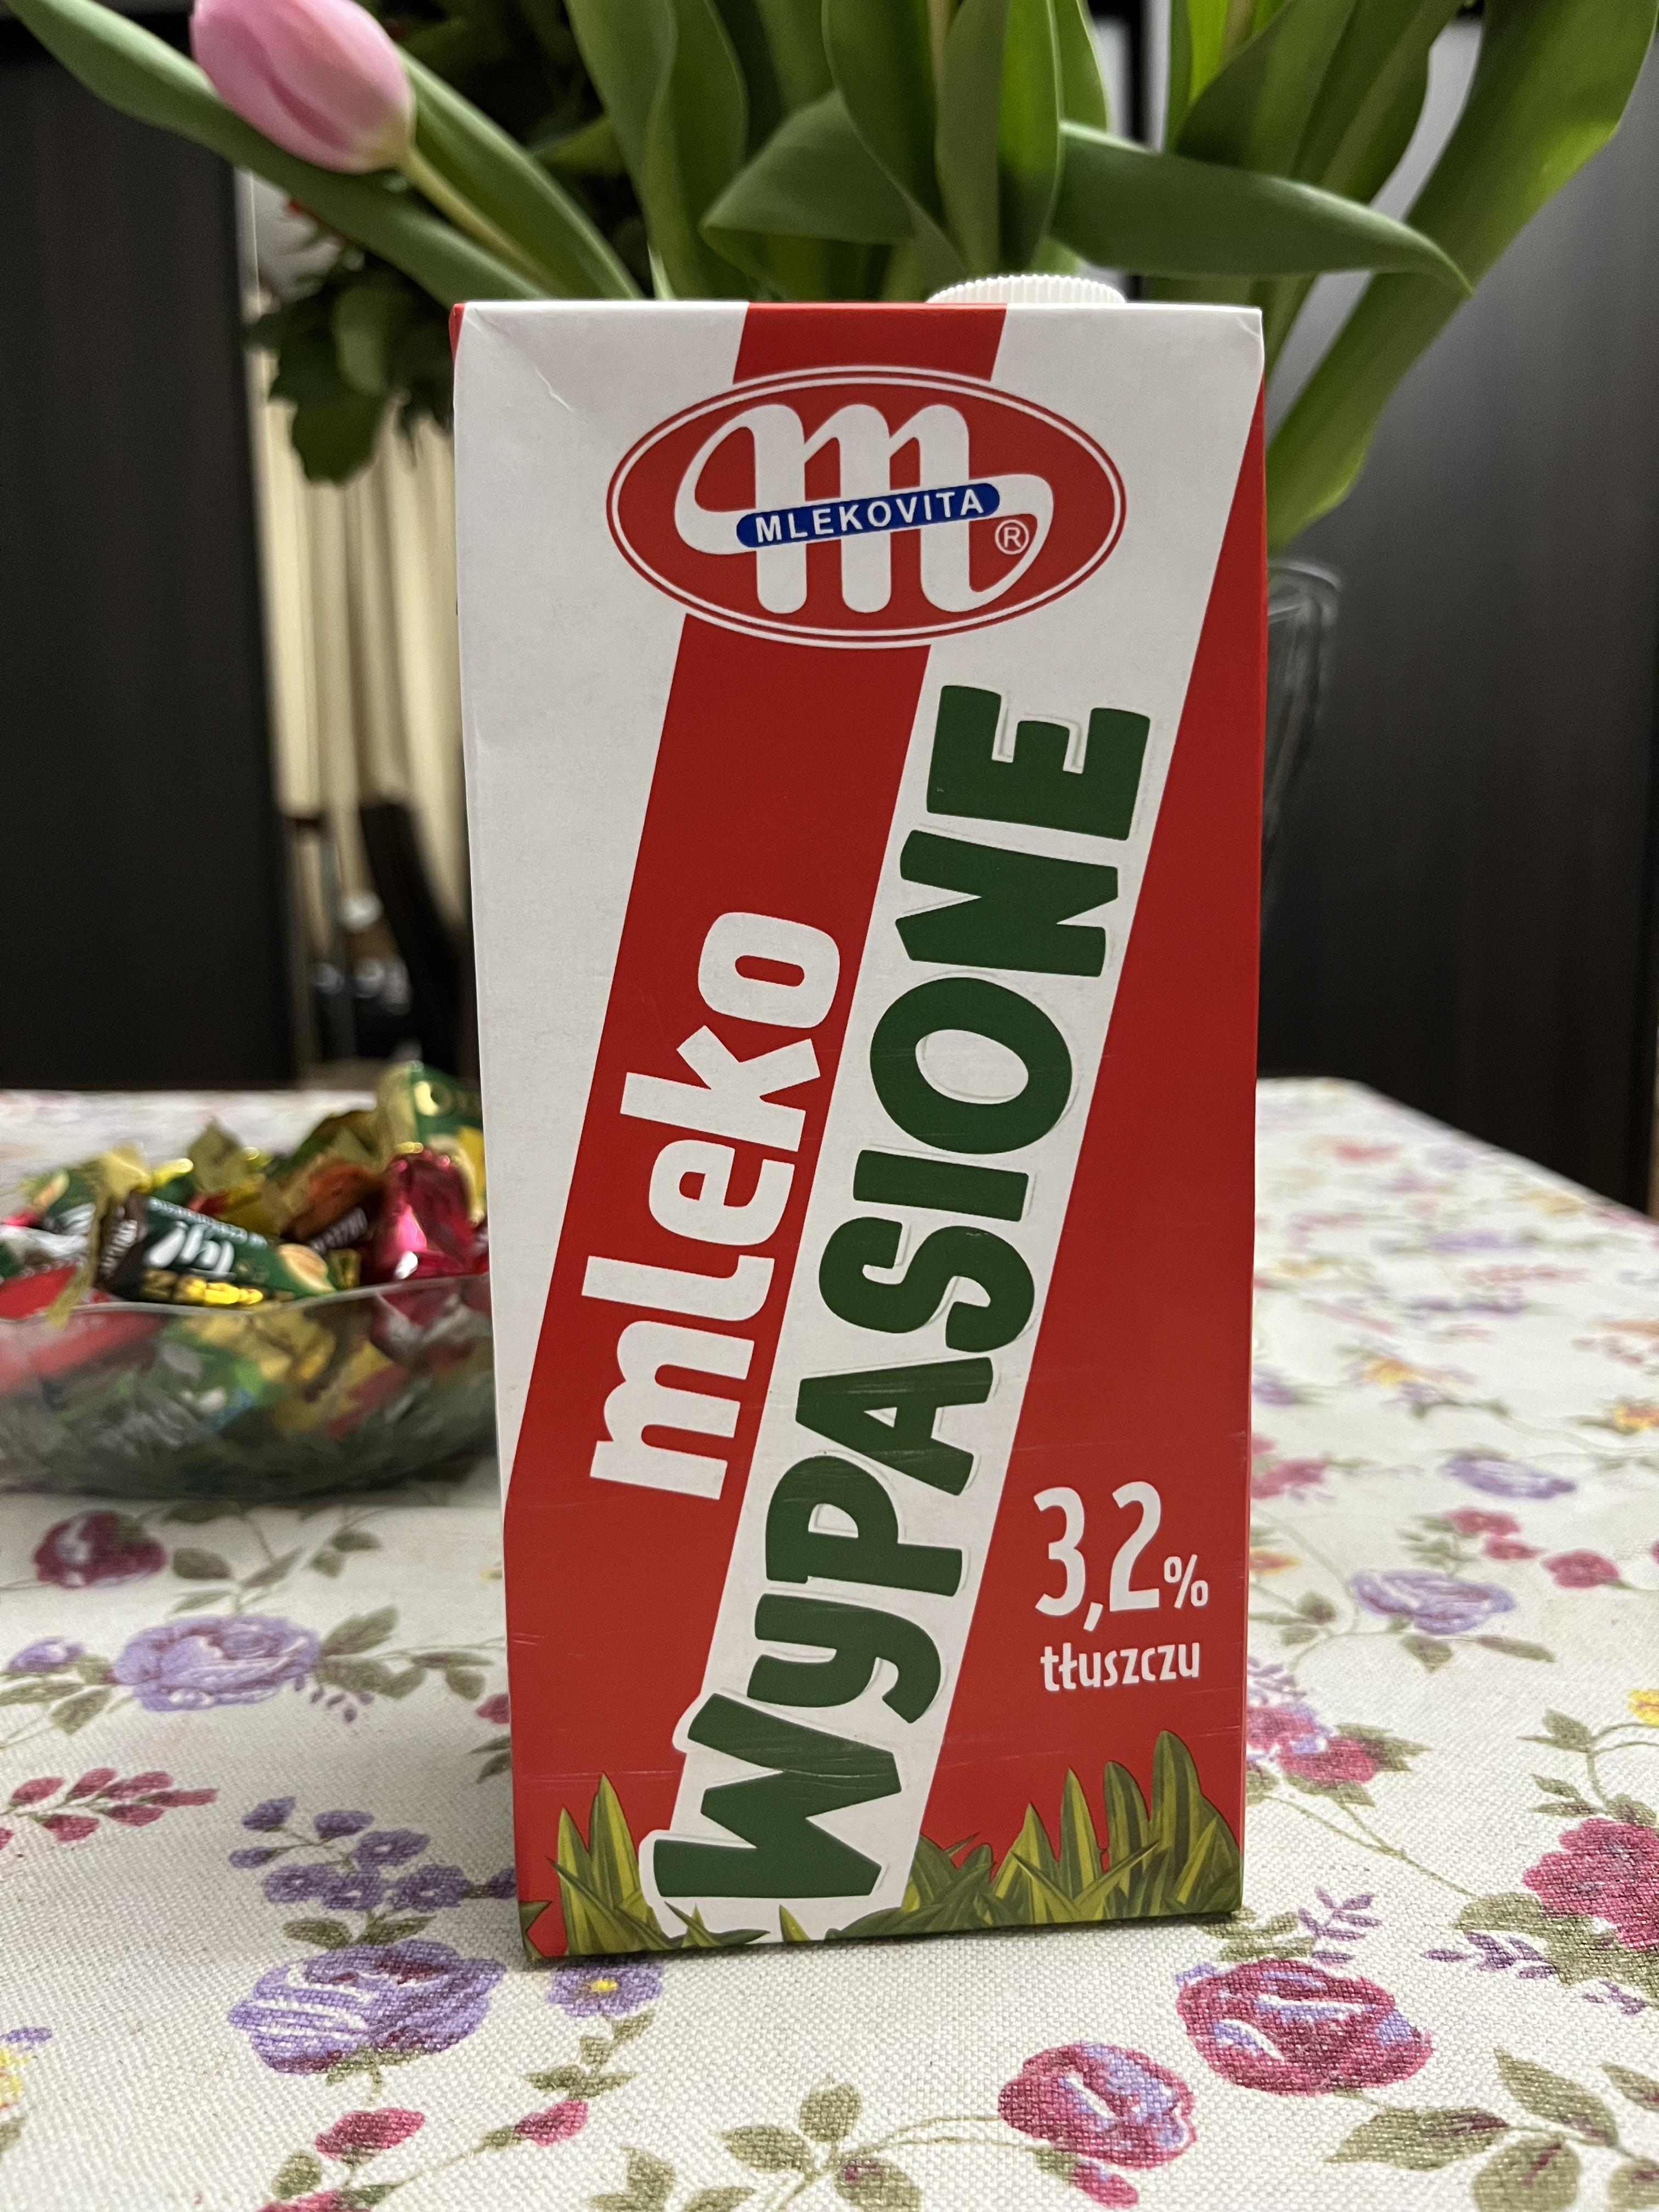Milk: (430, 296, 1253, 1968)
